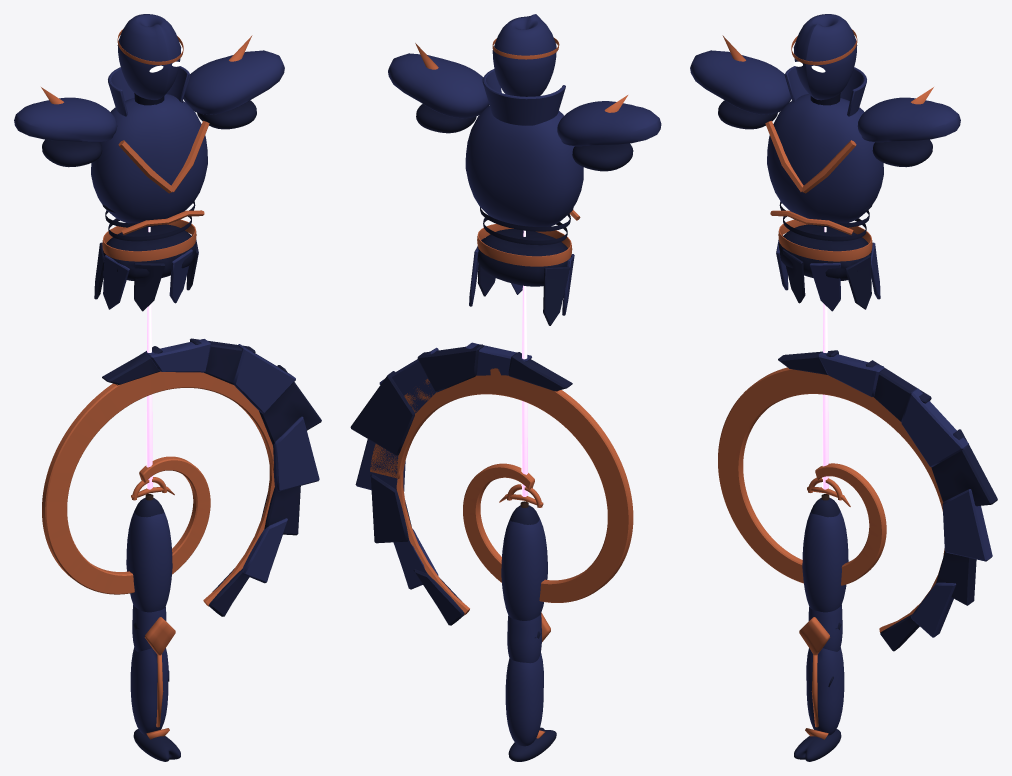
Rendered from commutator.glb.
3 renders of one model, left to right at view 1: azimuth 30°, elevation 25°; view 2: azimuth 150°, elevation 25°; view 3: azimuth 330°, elevation 25°, orthographic.
Visible parts, largest first — view 1: cm_body, cm_crescent, cm_spiral, cm_leg, cm_arm, cm_rapier; view 2: cm_body, cm_crescent, cm_spiral, cm_leg, cm_arm, cm_rapier; view 3: cm_body, cm_crescent, cm_spiral, cm_leg, cm_rapier, cm_arm.
Boxes of the visible parts, x1,y1,x2,y2 form: cm_body: (14, 14, 284, 311); cm_crescent: (102, 338, 321, 616); cm_spiral: (42, 371, 273, 594); cm_leg: (126, 510, 180, 761); cm_arm: (132, 497, 169, 681); cm_rapier: (131, 227, 174, 500); cm_body: (388, 14, 661, 325); cm_crescent: (350, 342, 572, 625); cm_spiral: (370, 368, 633, 602); cm_leg: (501, 518, 556, 761); cm_arm: (507, 505, 541, 663); cm_rapier: (499, 230, 543, 507); cm_body: (690, 14, 960, 311); cm_crescent: (778, 350, 997, 651); cm_spiral: (718, 367, 943, 585); cm_leg: (794, 510, 848, 761); cm_rapier: (807, 227, 850, 506); cm_arm: (808, 497, 842, 686).
Size of the model in its own units: 1.21 by 2.8 by 0.3103.
